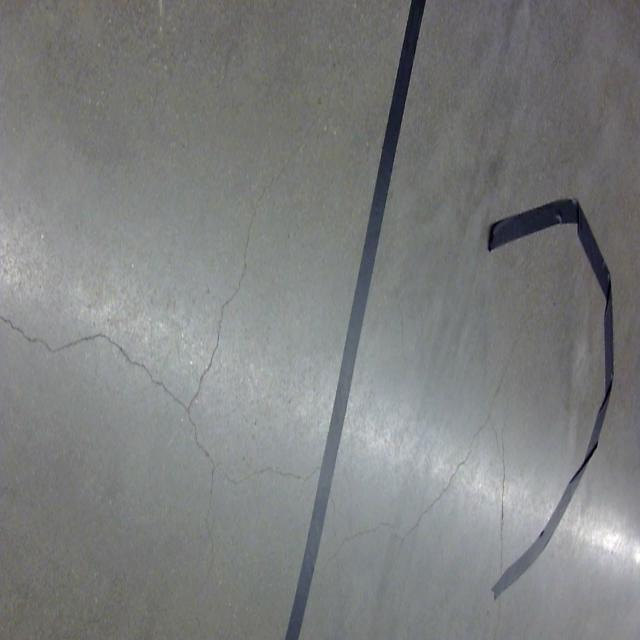tape: (270, 0, 438, 640), (472, 180, 628, 624)
